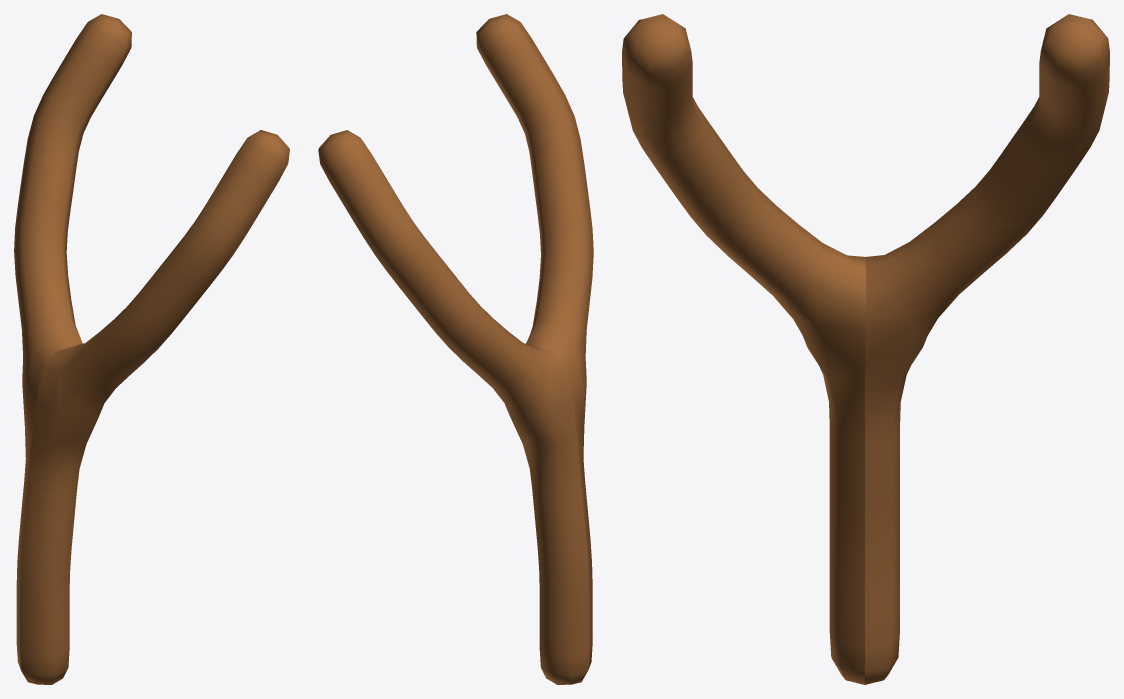
File: rogatka (1).fbx
3 renders of one model, left to right at view 1: azimuth 30°, elevation 25°; view 2: azimuth 150°, elevation 25°; view 3: azimuth 270°, elevation 25°, orthographic. The views are drawn at different scales.
Parts seen in each view (by area): view 1: Cube.002, Cube; view 2: Cube, Cube.002; view 3: Cube.002, Cube.
Boxes of the visible parts, x1,y1,x2,y2 form: Cube.002: (20, 130, 289, 684); Cube: (14, 14, 131, 669); Cube: (318, 130, 589, 684); Cube.002: (476, 14, 593, 669); Cube.002: (622, 14, 865, 684); Cube: (865, 14, 1109, 684).
Size of the model in its own units: 20.58 by 59.66 by 34.89.
